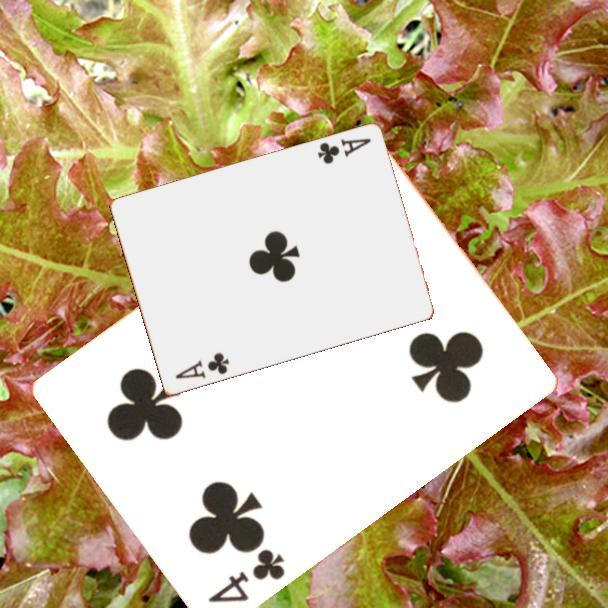c01: (171, 349, 232, 382), (314, 135, 374, 167)
c04: (204, 545, 288, 607)
